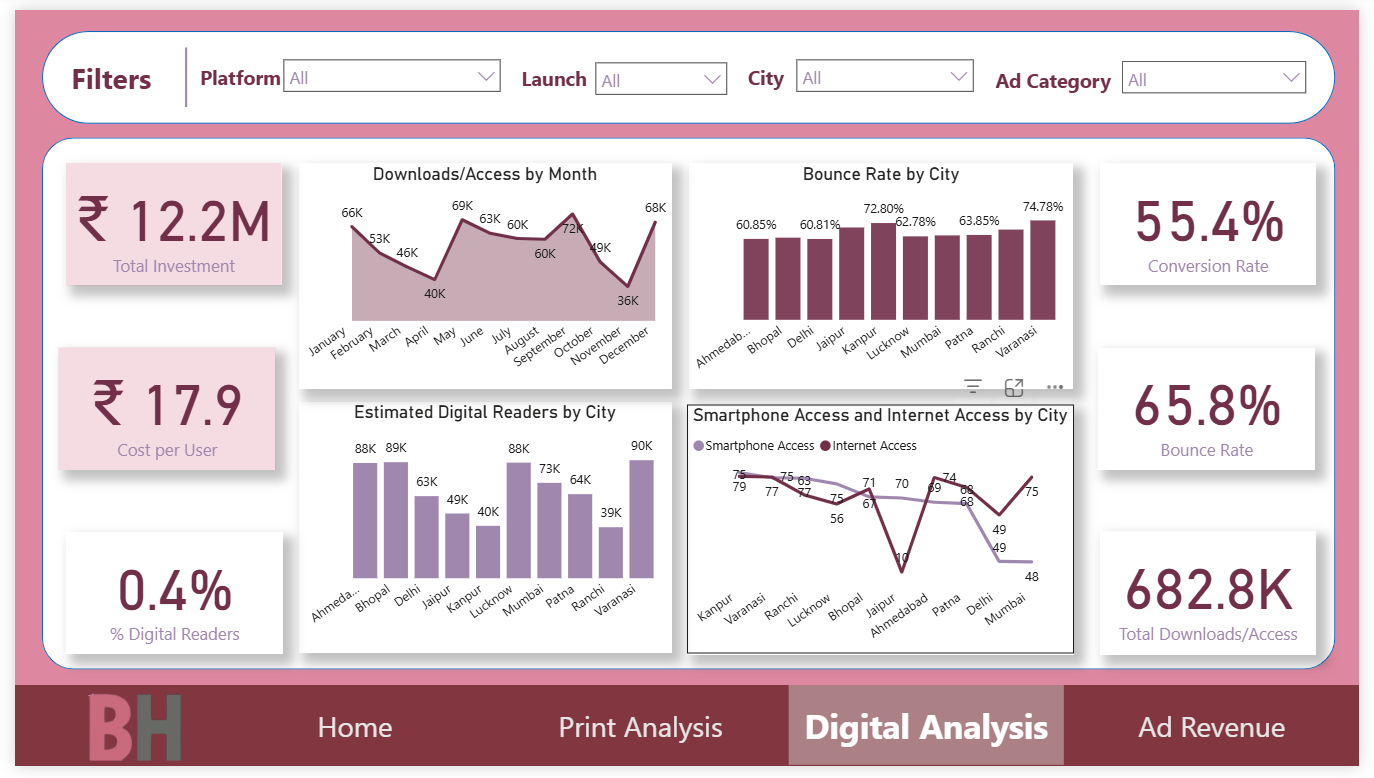

Layout of this report page (visuals, bound fields, positions):
{"tool":"powerbi","page":{"name":"Digital Analysis","canvas":[1280,720],"ordinal":2},"visuals":[{"type":"shape","box":[25,20,1231.7,88.3],"z":0},{"type":"textbox","box":[161.1,46.7,106.7,45],"z":0,"group":"g3"},{"type":"textbox","box":[0,642.9,1280,77.1],"z":0,"group":"g1"},{"type":"slicer","fields":{"Values":["fact_digital_pilot.platform"]},"box":[245.9,37.8,226.7,58.3],"z":1000,"group":"g3"},{"type":"textbox","box":[477.8,46.7,81.7,45],"z":1000,"group":"g4"},{"type":"textbox","box":[693.1,46.7,56.7,45],"z":1000,"group":"g5"},{"type":"textbox","box":[928.3,48.3,158.3,45],"z":1000,"group":"g6"},{"type":"shape","box":[25,121.7,1231.7,506.7],"z":1000},{"type":"card","fields":{"Values":["Sum(fact_digital_pilot.downloads_or_accesses)"]},"box":[1033.3,495,206.7,118.3],"z":2000},{"type":"card","fields":{"Values":["fact_digital_pilot.bounce_rate"]},"box":[1031.1,320.8,206.7,116.7],"z":3000},{"type":"card","fields":{"Values":["fact_digital_pilot.Conversion Rate"]},"box":[1033.3,145,206.7,116.7],"z":4000},{"type":"pageNavigator","box":[192.3,643.5,1080.6,76.2],"z":4000,"group":"g1"},{"type":"card","fields":{"Values":["fact_digital_pilot.% Digital Readers"]},"box":[48.3,496.7,206.7,116.7],"z":5000},{"type":"image","box":[34.3,642.9,158.6,77.1],"z":5000,"group":"g1"},{"type":"card","fields":{"Values":["fact_digital_pilot.cost per user"]},"box":[41.7,321.7,206.7,116.7],"z":6000},{"type":"clusteredColumnChart","fields":{"Y":["fact_city_readiness.Estimated Digital Readers"],"Category":["dim_city.city"]},"box":[270,373.3,355,240],"z":7000},{"type":"lineChart","fields":{"Category":["dim_city.city"],"Y":["Avg(fact_city_readiness.smartphone_penetration)"],"Y2":["Avg(fact_city_readiness.internet_penetration)"]},"box":[640,375,368.3,238.3],"z":8000},{"type":"clusteredColumnChart","fields":{"Category":["dim_city.city"],"Y":["fact_digital_pilot.bounce_rate"]},"box":[641.7,145,366.7,215],"z":9000},{"type":"group","id":"g1","title":"Group 1","box":[0,642.9,1280,77.1],"z":10000},{"type":"slicer","fields":{"Values":["dim_ad_category.standard_ad_category"]},"box":[1043.3,38.3,195,53.3],"z":11000,"group":"g6"},{"type":"textbox","box":[48.3,40,171.7,60],"z":11000,"group":"g2"},{"type":"slicer","fields":{"Values":["fact_digital_pilot.launch_month - Copy"]},"box":[543.4,40,145,51.7],"z":11000,"group":"g4"},{"type":"card","fields":{"Values":["fact_digital_pilot.Total Investment"]},"box":[48.3,145,205,116.7],"z":11000},{"type":"shape","box":[76.6,35,171.7,56.7],"z":12000,"group":"g2"},{"type":"areaChart","fields":{"Category":["fact_digital_pilot.launch_month - Copy"],"Y":["Sum(fact_digital_pilot.downloads_or_accesses)"]},"box":[270,145,355,215],"z":12000},{"type":"group","id":"g2","title":"Group 6","box":[48.3,35,200,65],"z":13000},{"type":"slicer","fields":{"Values":["dim_city.city"]},"box":[734.8,37.8,188.3,51.7],"z":13000,"group":"g5"},{"type":"group","id":"g3","title":"Group 2","box":[161.1,37.8,311.5,58.3],"z":14000},{"type":"group","id":"g4","title":"Group 3","box":[477.8,40,210,51.7],"z":15000},{"type":"group","id":"g5","title":"Group 4","box":[693.1,37.8,230,53.9],"z":16000},{"type":"group","id":"g6","title":"Group 5","box":[928.3,38.3,310,55],"z":17000}]}

Visuals, with their boxes in screenshot pixels (x1, y1, x2, y2), scaled from the page's 1280x720 canvas onto the 1374x778 screenshot:
shape: <box>27,22,1349,117</box>
textbox: <box>173,50,287,99</box>
textbox: <box>0,695,1373,777</box>
slicer - fact_digital_pilot.platform: <box>264,41,507,104</box>
textbox: <box>513,50,601,99</box>
textbox: <box>744,50,805,99</box>
textbox: <box>996,52,1166,101</box>
shape: <box>27,132,1349,679</box>
card - Sum(fact_digital_pilot.downloads_or_accesses): <box>1109,535,1331,663</box>
card - fact_digital_pilot.bounce_rate: <box>1107,347,1329,473</box>
card - fact_digital_pilot.Conversion Rate: <box>1109,157,1331,283</box>
pageNavigator: <box>206,695,1366,777</box>
card - fact_digital_pilot.% Digital Readers: <box>52,537,274,663</box>
image: <box>37,695,207,777</box>
card - fact_digital_pilot.cost per user: <box>45,348,267,474</box>
clusteredColumnChart - fact_city_readiness.Estimated Digital Readers x dim_city.city: <box>290,403,671,663</box>
lineChart - dim_city.city x Avg(fact_city_readiness.smartphone_penetration): <box>687,405,1082,663</box>
clusteredColumnChart - dim_city.city x fact_digital_pilot.bounce_rate: <box>689,157,1082,389</box>
"Group 1" group: <box>0,695,1373,777</box>
slicer - dim_ad_category.standard_ad_category: <box>1120,41,1329,99</box>
textbox: <box>52,43,236,108</box>
slicer - fact_digital_pilot.launch_month - Copy: <box>583,43,739,99</box>
card - fact_digital_pilot.Total Investment: <box>52,157,272,283</box>
shape: <box>82,38,267,99</box>
areaChart - fact_digital_pilot.launch_month - Copy x Sum(fact_digital_pilot.downloads_or_accesses): <box>290,157,671,389</box>
"Group 6" group: <box>52,38,267,108</box>
slicer - dim_city.city: <box>789,41,991,97</box>
"Group 2" group: <box>173,41,507,104</box>
"Group 3" group: <box>513,43,738,99</box>
"Group 4" group: <box>744,41,991,99</box>
"Group 5" group: <box>996,41,1329,101</box>
